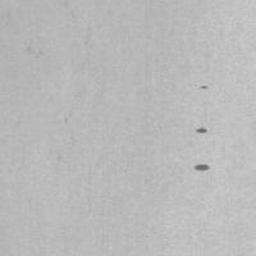Inclusion: (195, 164, 211, 172), (196, 128, 209, 134)
